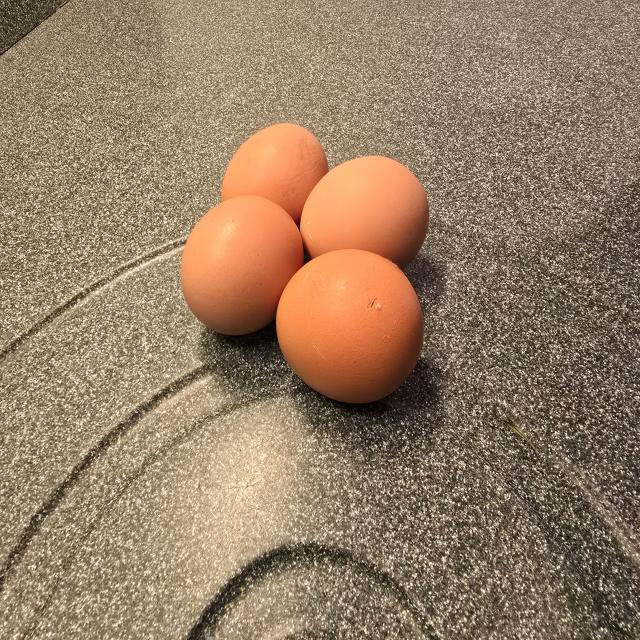Egg: (276, 249, 424, 403), (181, 196, 303, 335), (300, 156, 429, 268), (221, 124, 328, 223)
